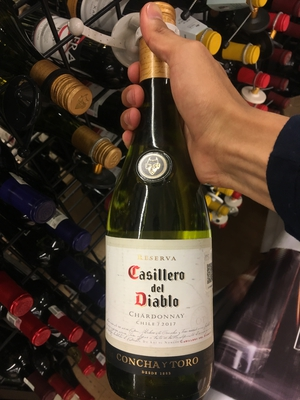casillero del diablo chardonnay: (97, 15, 225, 400)
